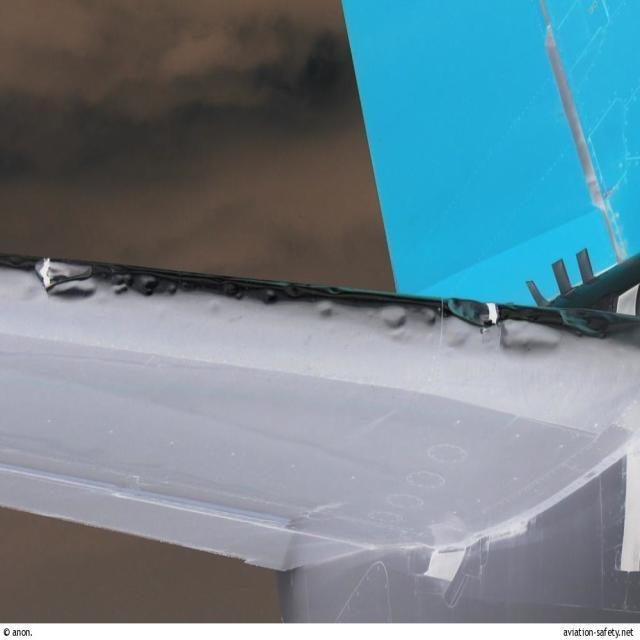dent: (33, 255, 618, 360)
